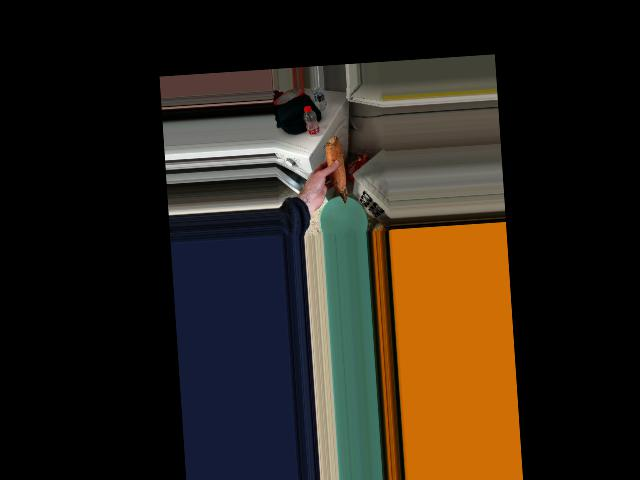sweet_potato: (323, 136, 346, 201)
